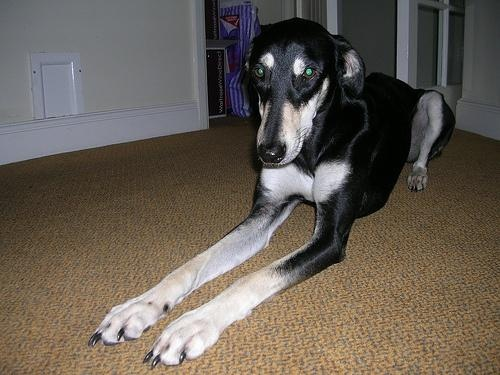dog: (89, 18, 458, 369)
